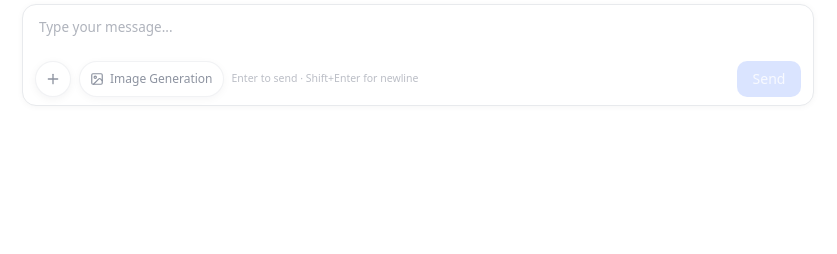
Test: ThreadComposer › does not duplicate the next word separator when completing a CLI app mention
Type "use @ble tonight" into the text box named "Message input" at (418, 30), box [23,5,813,55]
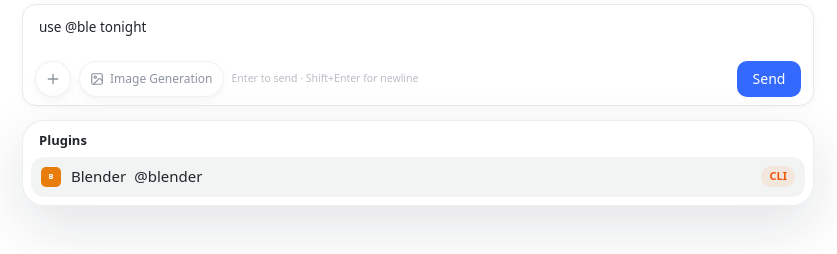
Press Tab in the text box named "Message input", box [23,5,813,55]
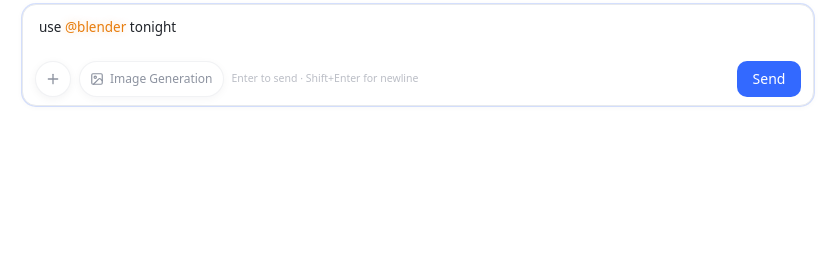
Result: the text box named "Message input" holds "use @blender tonight" at [23,5,813,55]
